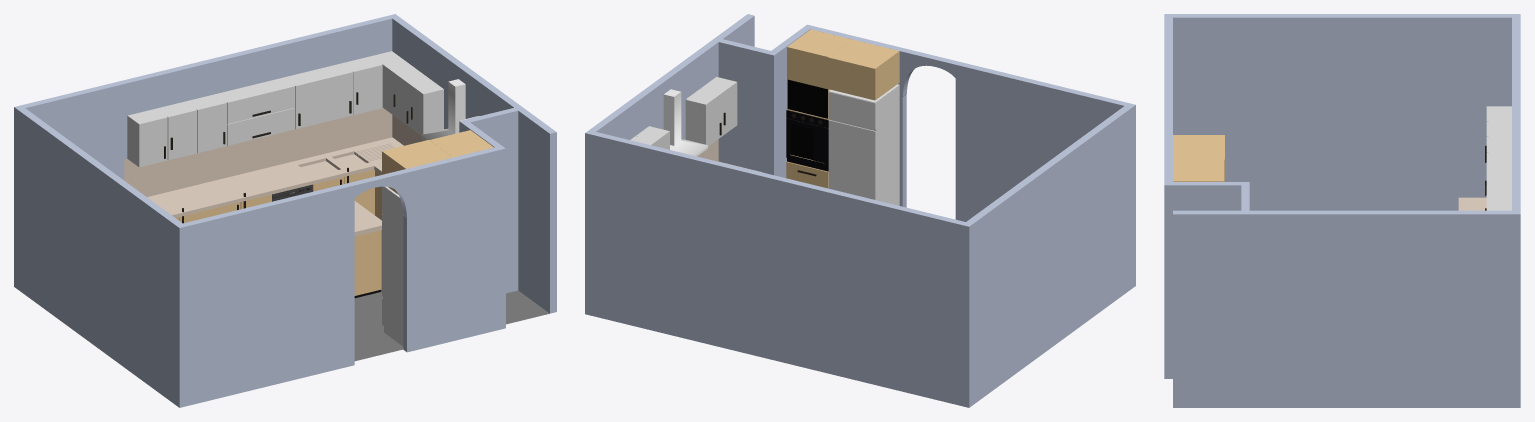
Rendered from cuisine-corian.fbx.
The picture shows the model from 3 angles, left to right: view 1: azimuth 30°, elevation 25°; view 2: azimuth 150°, elevation 25°; view 3: azimuth 270°, elevation 25°; orthographic projection. The views are drawn at different scales.
Parts seen in each view (by area): view 1: Box028, murs-corian, Box025, corian, Box013, Box014, Box023, Box015, Rectangle31, Plane001, Box027, Box018 (+8 smaller); view 2: murs-corian, Box028, Box004, Box023, Rectangle29, Box029, Box021, Rectangle31, Box027, Box024, hôt, Box025 (+1 smaller); view 3: murs-corian, Box028, Box025, Box024, Box029, Box004, Box013, Box014, Box011, Box012, corian, Box027.
Part boxes in pixels (<box>): Box028: <box>18,108,354,407</box>; murs-corian: <box>14,14,556,313</box>; Box025: <box>405,145,505,351</box>; corian: <box>147,137,403,217</box>; Box013: <box>215,77,294,145</box>; Box014: <box>127,101,196,167</box>; Box023: <box>459,108,518,293</box>; Box015: <box>313,56,382,121</box>; Rectangle31: <box>382,186,403,339</box>; Plane001: <box>354,290,549,361</box>; Box027: <box>337,169,409,368</box>; Box018: <box>396,70,443,135</box>; murs-corian: <box>585,14,973,407</box>; Box028: <box>955,62,1135,404</box>; Box004: <box>786,29,851,188</box>; Box023: <box>718,39,777,175</box>; Rectangle29: <box>828,92,875,199</box>; Box029: <box>828,39,899,100</box>; Box021: <box>685,77,737,146</box>; Rectangle31: <box>829,85,899,205</box>; Box027: <box>900,48,972,220</box>; Box024: <box>771,27,809,177</box>; hôt: <box>663,89,707,156</box>; Box025: <box>803,24,903,205</box>; murs-corian: <box>1173,14,1520,407</box>; Box028: <box>1164,14,1511,210</box>; Box025: <box>1164,134,1172,378</box>; Box024: <box>1173,182,1241,210</box>; Box029: <box>1173,135,1224,181</box>; Box004: <box>1173,159,1224,181</box>; Box013: <box>1486,152,1511,188</box>; Box014: <box>1486,106,1511,136</box>; Box011: <box>1486,188,1511,203</box>; Box012: <box>1486,137,1511,152</box>; corian: <box>1458,197,1486,210</box>; Box027: <box>1164,98,1172,134</box>.
Size of the model in its own units: 218 by 98.43 by 164.
